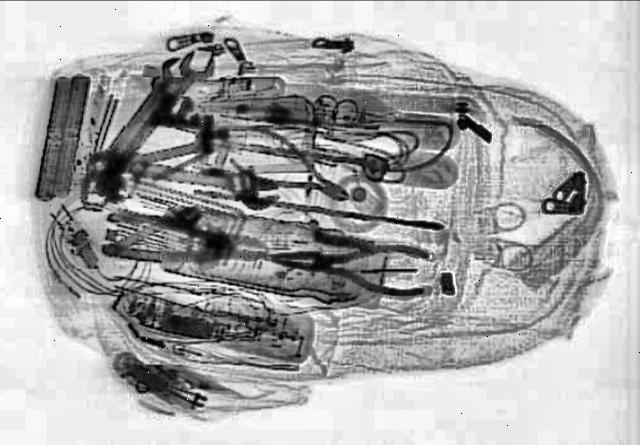Pliers: (212, 120, 374, 216), (97, 204, 279, 274), (270, 232, 438, 296)
Wrench: (92, 44, 230, 187), (98, 53, 208, 170), (114, 152, 290, 211)
